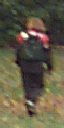person: (9, 17, 53, 113)
